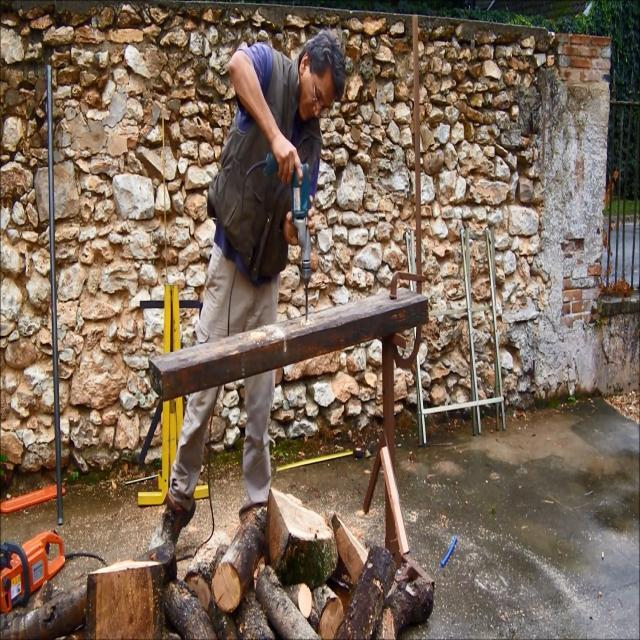Chainsaw: (0, 492, 83, 640)
